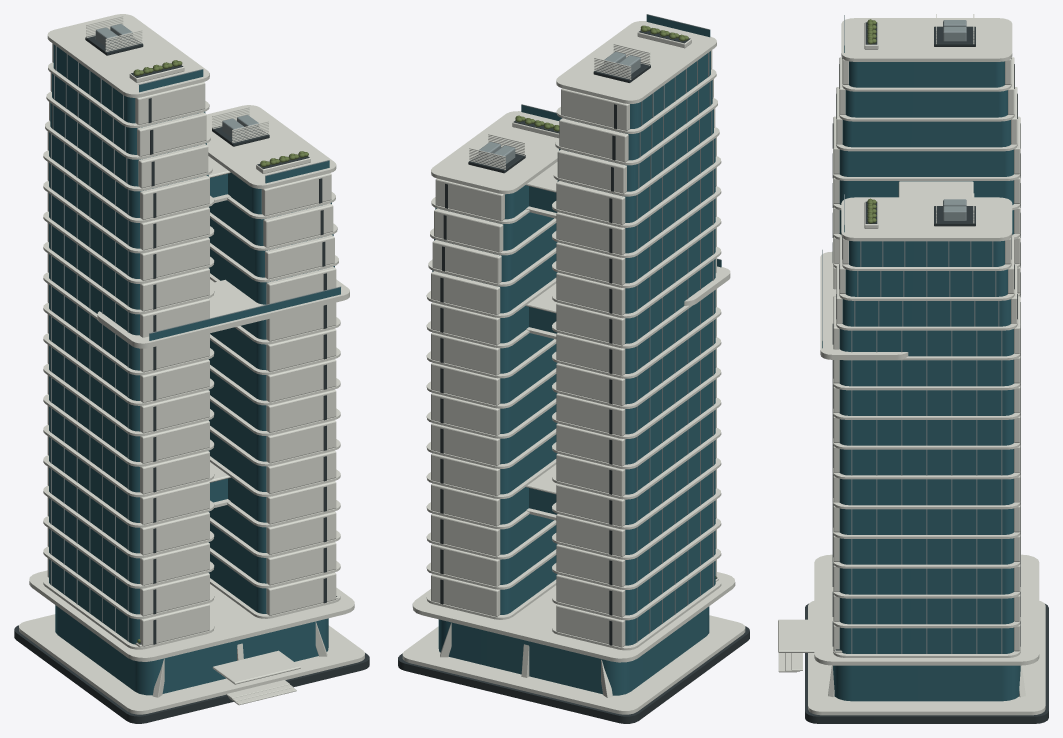
Rendered from Solstice_SplitTower_B.fbx.
The picture shows the model from 3 angles, left to right: view 1: azimuth 30°, elevation 25°; view 2: azimuth 150°, elevation 25°; view 3: azimuth 270°, elevation 25°; orthographic projection. The views are drawn at different scales.
Visible parts, largest first — view 1: Solstice_SplitTower_B; view 2: Solstice_SplitTower_B; view 3: Solstice_SplitTower_B.
Part boxes in pixels (x1,y1,x2,y2): Solstice_SplitTower_B: [14, 14, 369, 723]; Solstice_SplitTower_B: [398, 14, 749, 723]; Solstice_SplitTower_B: [778, 14, 1048, 723].
Size of the model in its own units: 29 by 72.14 by 28.85.
